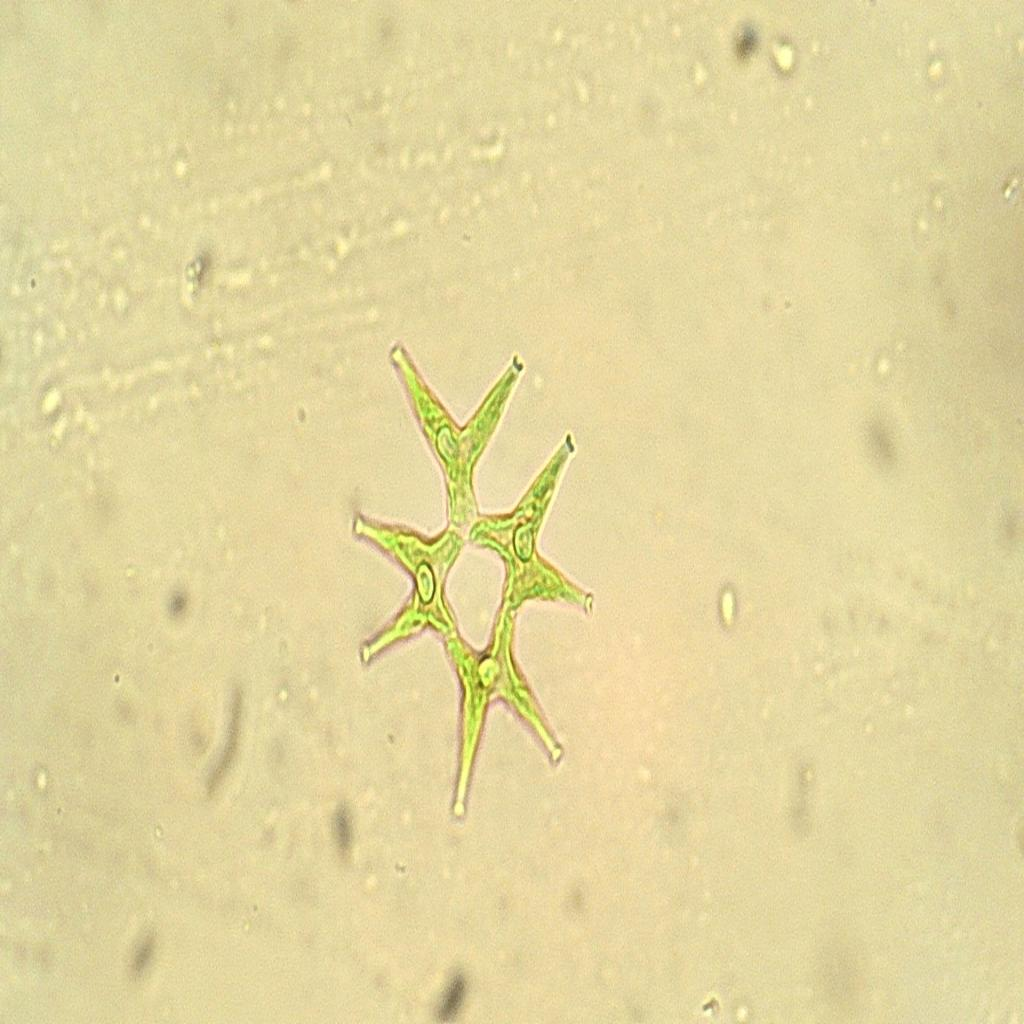Pediastrum_75FI: (350, 323, 600, 828)
